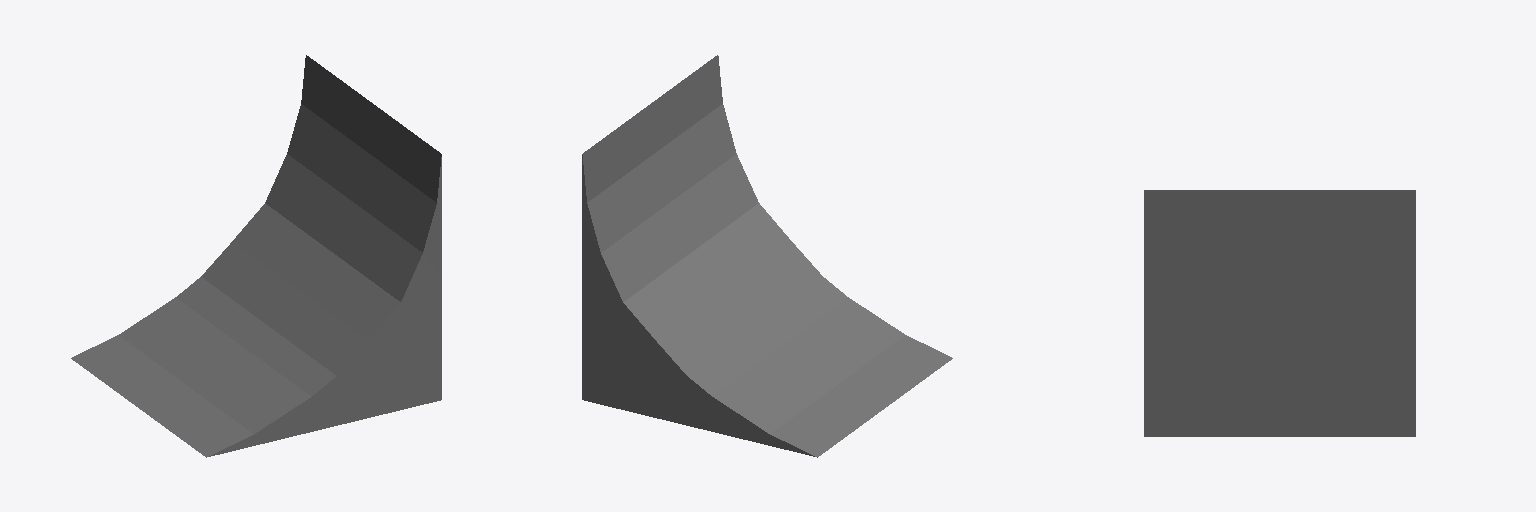
The model's file is slope.obj.
The picture shows the model from 3 angles: view 1: azimuth 30°, elevation 25°; view 2: azimuth 150°, elevation 25°; view 3: azimuth 270°, elevation 25°; orthographic projection.
Visible parts, largest first — view 1: pCube1_pCube1; view 2: pCube1_pCube1; view 3: pCube1_pCube1.
Boxes of the visible parts, x1,y1,x2,y2 form: pCube1_pCube1: [71, 55, 441, 457]; pCube1_pCube1: [582, 55, 952, 457]; pCube1_pCube1: [1144, 190, 1415, 436].
Size of the model in its own units: 6.76 by 6.76 by 6.77.